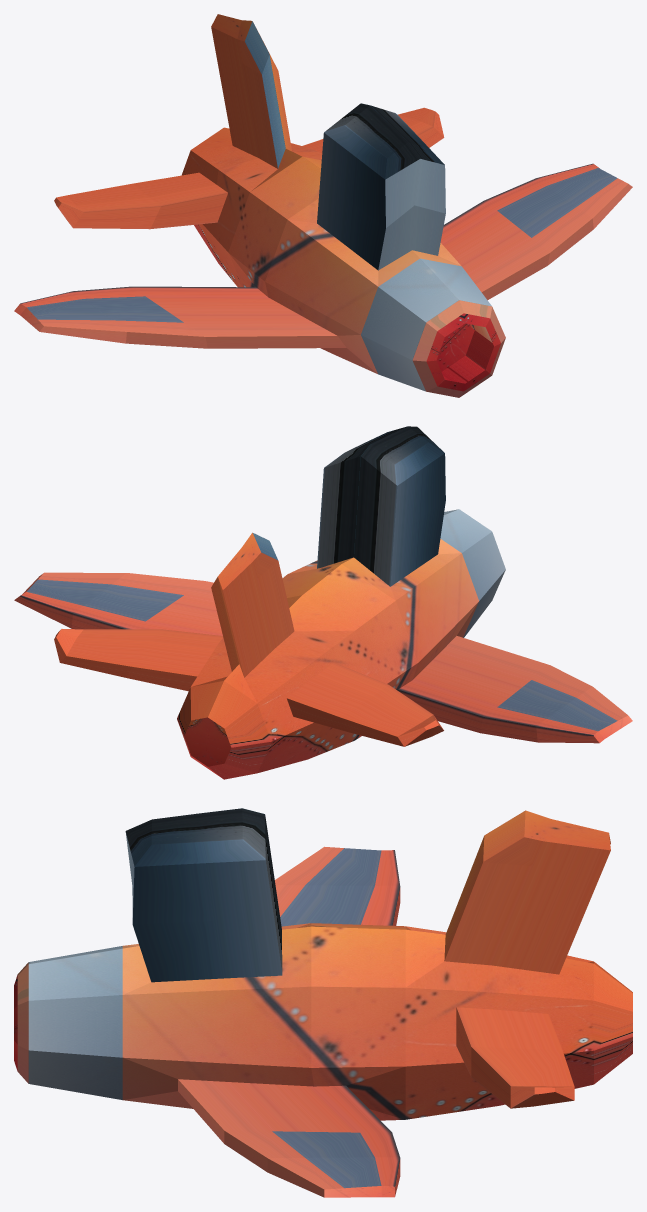
Rendered from avion_cuerpo - copia.obj.
3 renders of one model, top to bottom at view 1: azimuth 30°, elevation 25°; view 2: azimuth 150°, elevation 25°; view 3: azimuth 270°, elevation 25°, orthographic. The views are drawn at different scales.
Visible parts, largest first — view 1: Cylinder; view 2: Cylinder; view 3: Cylinder.
Part boxes in pixels (x1=…): Cylinder: x1=14, y1=14, x2=632, y2=397; Cylinder: x1=14, y1=426, x2=632, y2=779; Cylinder: x1=14, y1=808, x2=632, y2=1197.
Size of the model in its own units: 10.03 by 4.18 by 7.53.
